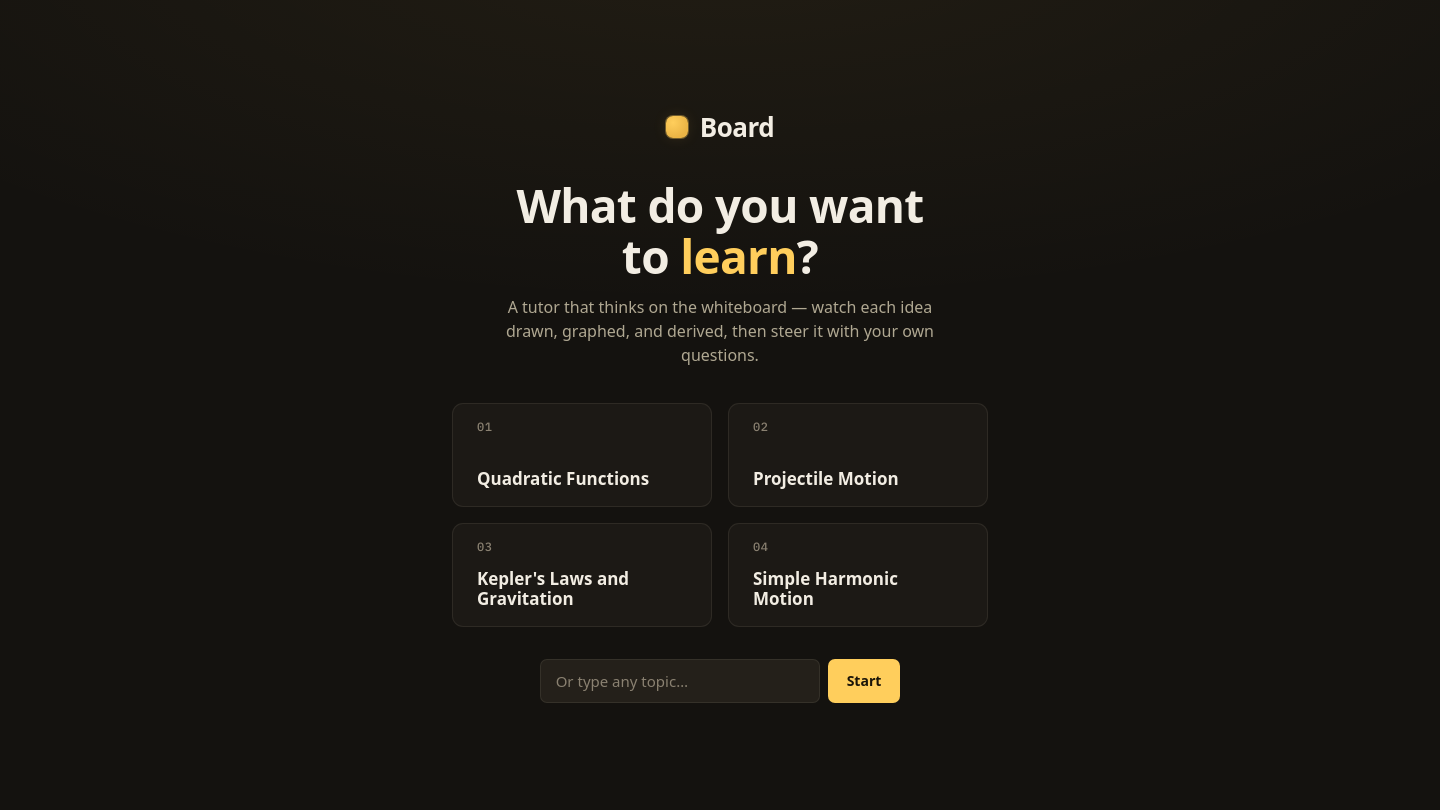
chat-turn errors also appear in the transcript (P-B fold-in) › appends a system chat message when a chat-kind turn errors, in addition to the banner
Click the button "Quadratic Functions".
click(563, 479)  # box [452,403,712,507]
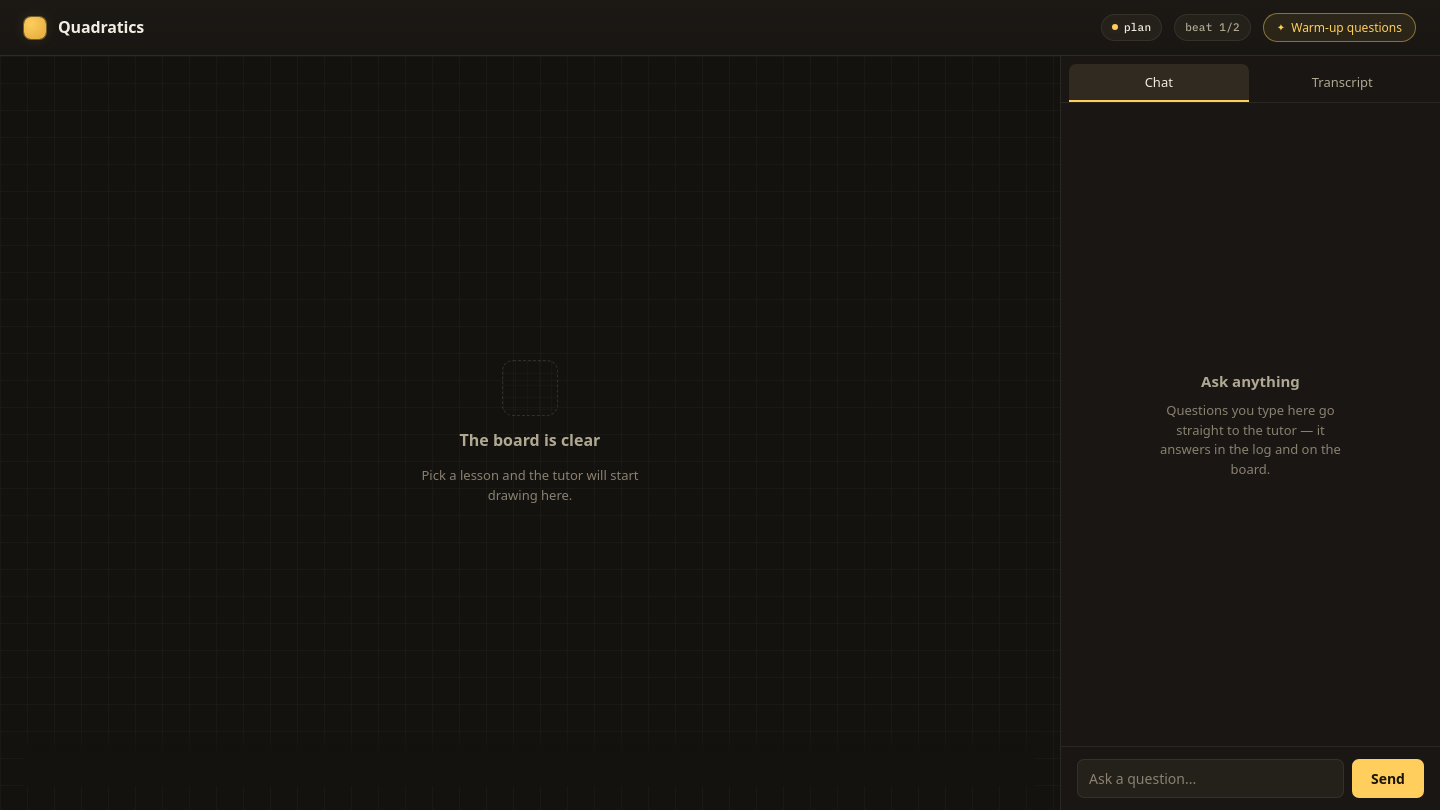
Type "will this work?" into the field with placeholder "Ask a question...".
click(1210, 778); type("will this work?")  # box [1077,759,1344,798]
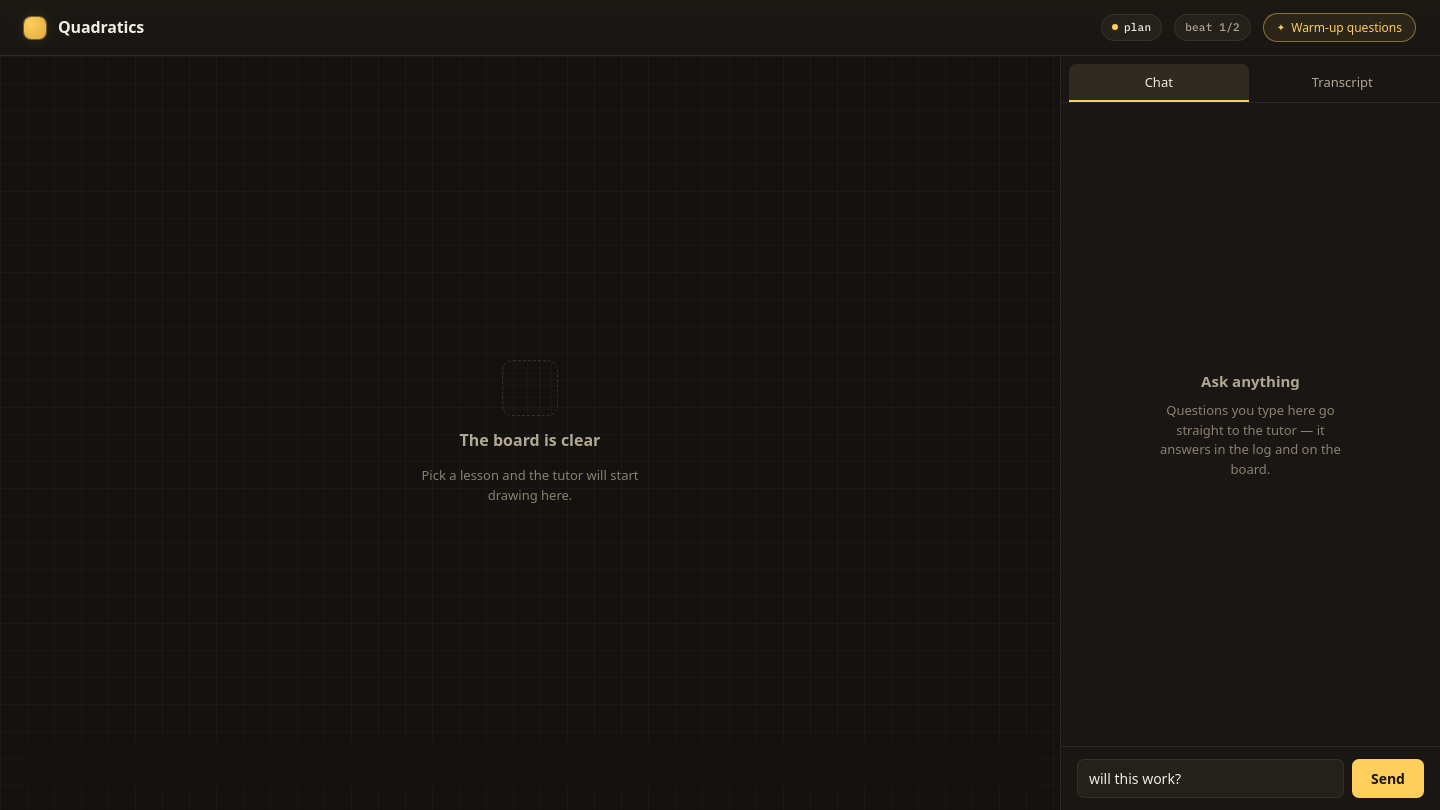
Submit the form with class "chat-input-row", box [1061,746,1439,809]
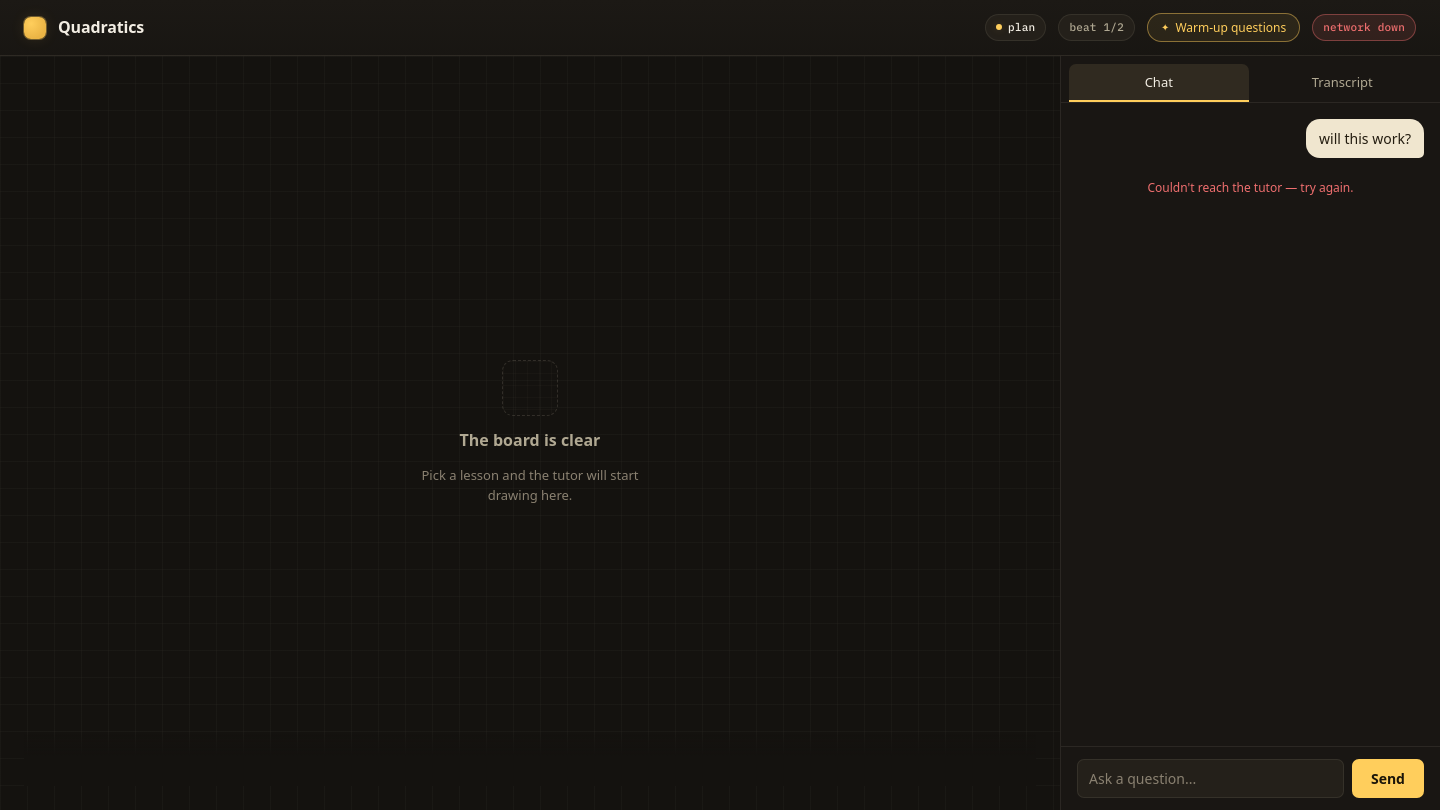
Check: the text "network down" is shown, box [1312,14,1416,41]
